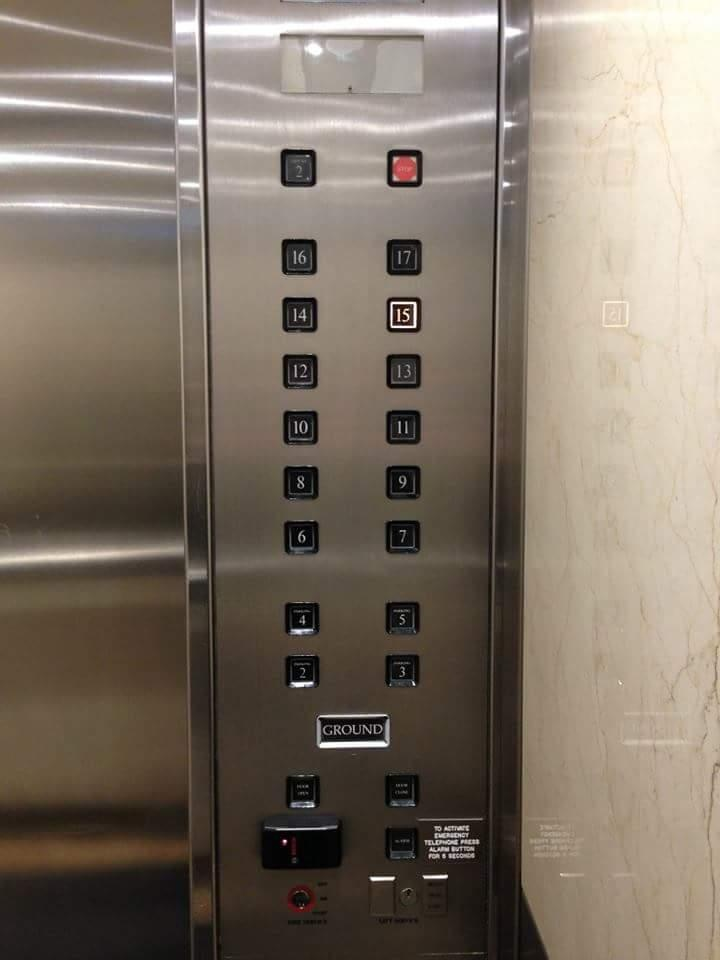10: (282, 409, 318, 446)
11: (386, 408, 422, 445)
12: (282, 353, 319, 389)
13: (386, 354, 421, 389)
14: (281, 296, 318, 333)
15: (387, 296, 421, 333)
16: (281, 237, 318, 276)
17: (386, 239, 423, 276)
2: (279, 147, 319, 189), (283, 653, 320, 689)
3: (384, 652, 421, 688)
4: (283, 600, 320, 636)
5: (384, 600, 421, 636)
6: (283, 520, 319, 555)
7: (385, 520, 421, 553)
8: (282, 464, 319, 501)
9: (386, 465, 422, 501)
text_blur: (382, 772, 419, 808), (283, 773, 320, 809), (382, 824, 419, 860)
text_ground: (315, 713, 392, 749)
text_stop: (386, 148, 424, 189)
